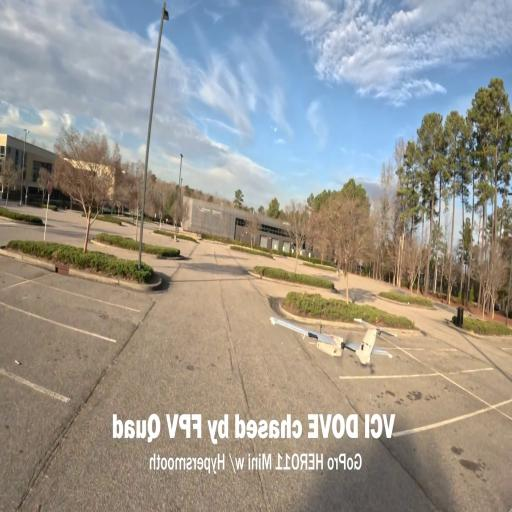uav: (270, 311, 398, 369)
